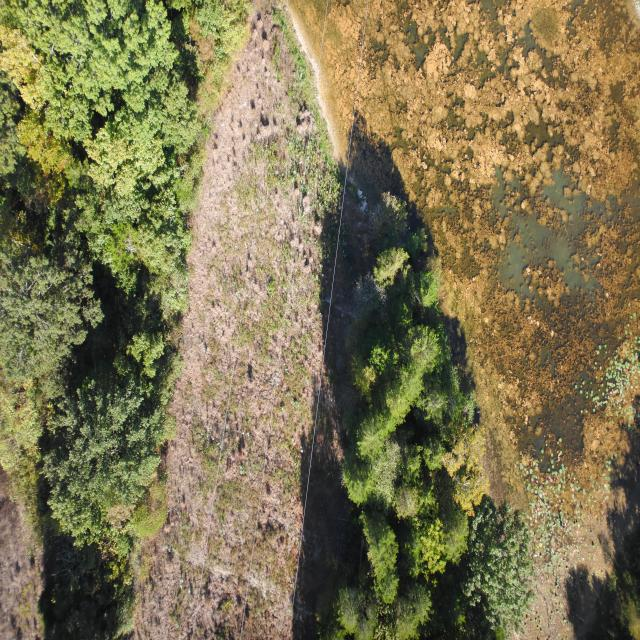Area of Interest: (8, 2, 241, 627), (341, 278, 501, 622)
